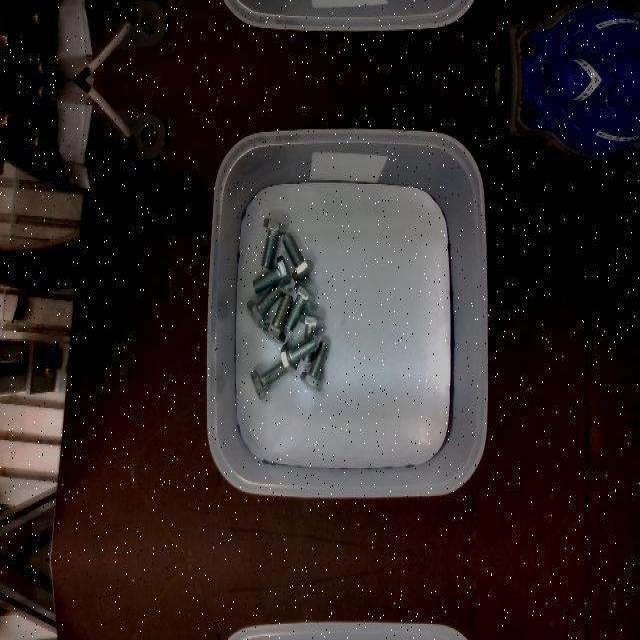screw: (246, 283, 282, 329), (282, 233, 314, 283), (280, 334, 319, 374), (284, 282, 315, 332), (262, 292, 292, 342), (299, 340, 329, 390), (252, 254, 290, 292), (260, 217, 286, 269)
